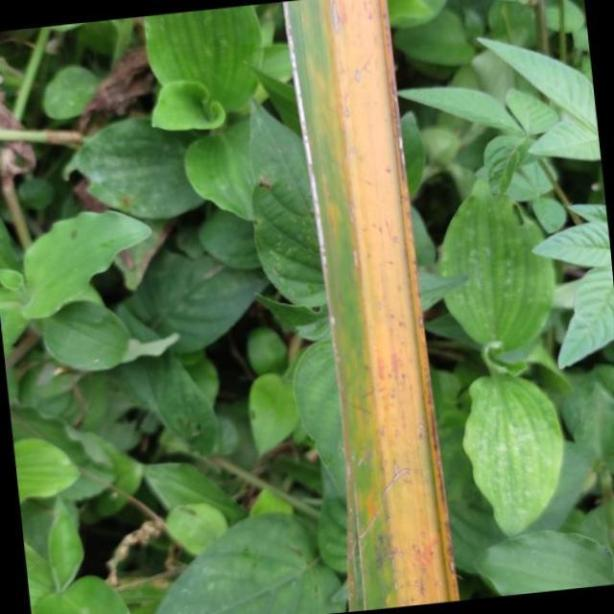Megnesium: (281, 0, 470, 612)
